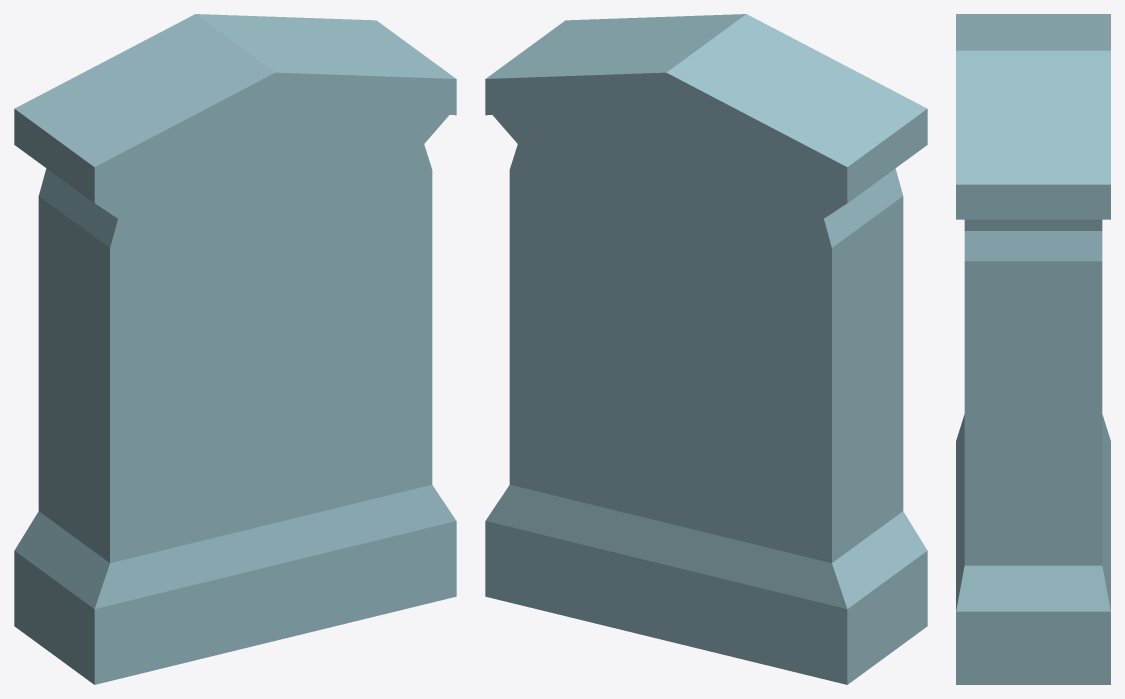
Rendered from grave3.glb.
3 renders of one model, left to right at view 1: azimuth 30°, elevation 25°; view 2: azimuth 150°, elevation 25°; view 3: azimuth 270°, elevation 25°, orthographic. The views are drawn at different scales.
Visible parts, largest first — view 1: mergedBlocks(Clone); view 2: mergedBlocks(Clone); view 3: mergedBlocks(Clone).
Part boxes in pixels (bbox=[...]): mergedBlocks(Clone): bbox=[14, 14, 456, 684]; mergedBlocks(Clone): bbox=[485, 14, 927, 684]; mergedBlocks(Clone): bbox=[956, 14, 1110, 684].
Size of the model in its own units: 0.39 by 0.585 by 0.1495.
